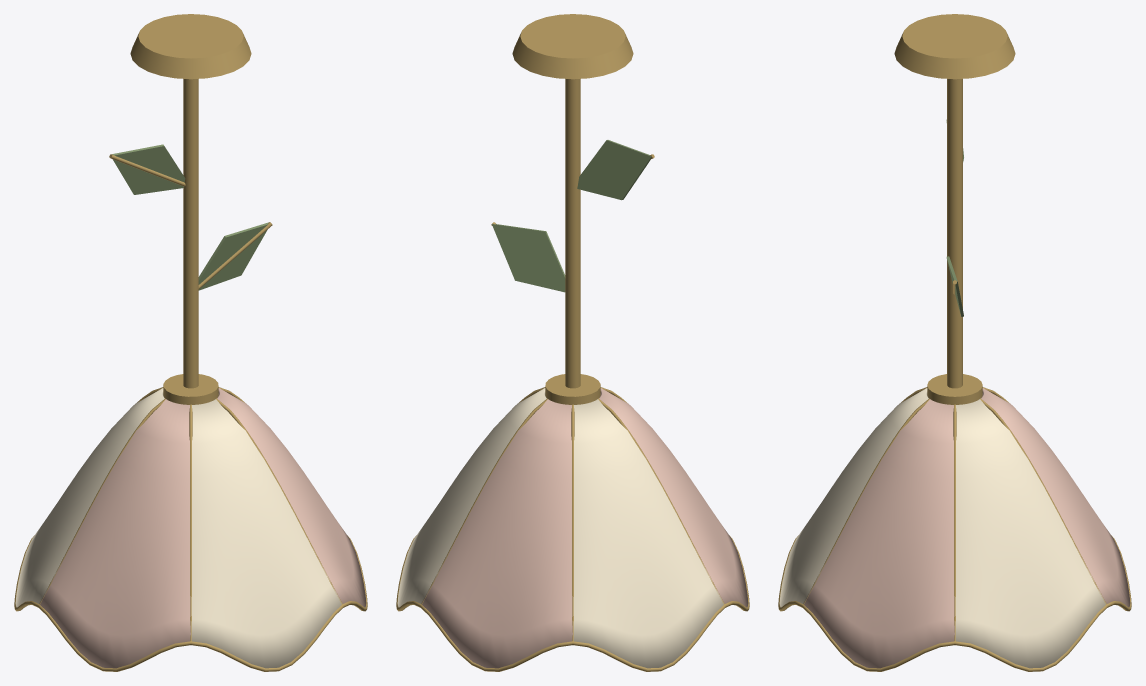
The model's file is fixture_floral_pendant.glb.
3 views of the same model, side by side, from view 1: azimuth 30°, elevation 25°; view 2: azimuth 150°, elevation 25°; view 3: azimuth 270°, elevation 25° (orthographic).
Visible parts, largest first — view 1: Six-petal scalloped glass shade, Ceiling mounting canopy, Floral pendant long stem, Attached sculpted bronze leaf.001, Attached sculpted bronze leaf, Scalloped flower shade brass rim, Flower shade socket, Petal vein 5; view 2: Six-petal scalloped glass shade, Ceiling mounting canopy, Floral pendant long stem, Attached sculpted bronze leaf, Attached sculpted bronze leaf.001, Scalloped flower shade brass rim, Flower shade socket, Petal vein 3; view 3: Six-petal scalloped glass shade, Ceiling mounting canopy, Floral pendant long stem, Scalloped flower shade brass rim, Flower shade socket, Petal vein 1.
Boxes of the visible parts, bbox=[...] form: Six-petal scalloped glass shade: bbox=[15, 388, 366, 668]; Ceiling mounting canopy: bbox=[130, 14, 251, 79]; Floral pendant long stem: bbox=[183, 79, 198, 388]; Attached sculpted bronze leaf.001: bbox=[112, 144, 185, 194]; Attached sculpted bronze leaf: bbox=[198, 222, 269, 290]; Scalloped flower shade brass rim: bbox=[14, 535, 367, 671]; Flower shade socket: bbox=[163, 374, 218, 404]; Petal vein 5: bbox=[189, 404, 192, 641]; Six-petal scalloped glass shade: bbox=[397, 388, 748, 668]; Ceiling mounting canopy: bbox=[512, 14, 633, 79]; Floral pendant long stem: bbox=[565, 79, 580, 388]; Attached sculpted bronze leaf: bbox=[492, 224, 565, 292]; Attached sculpted bronze leaf.001: bbox=[577, 140, 651, 200]; Scalloped flower shade brass rim: bbox=[396, 535, 749, 671]; Flower shade socket: bbox=[545, 374, 600, 404]; Petal vein 3: bbox=[571, 404, 574, 641]; Six-petal scalloped glass shade: bbox=[779, 388, 1130, 668]; Ceiling mounting canopy: bbox=[894, 14, 1015, 79]; Floral pendant long stem: bbox=[947, 79, 962, 388]; Scalloped flower shade brass rim: bbox=[778, 535, 1131, 671]; Flower shade socket: bbox=[927, 374, 982, 404]; Petal vein 1: bbox=[953, 404, 956, 641].
Bounding box in the file's own units: 0.4964 × 0.8845 × 0.4963.
